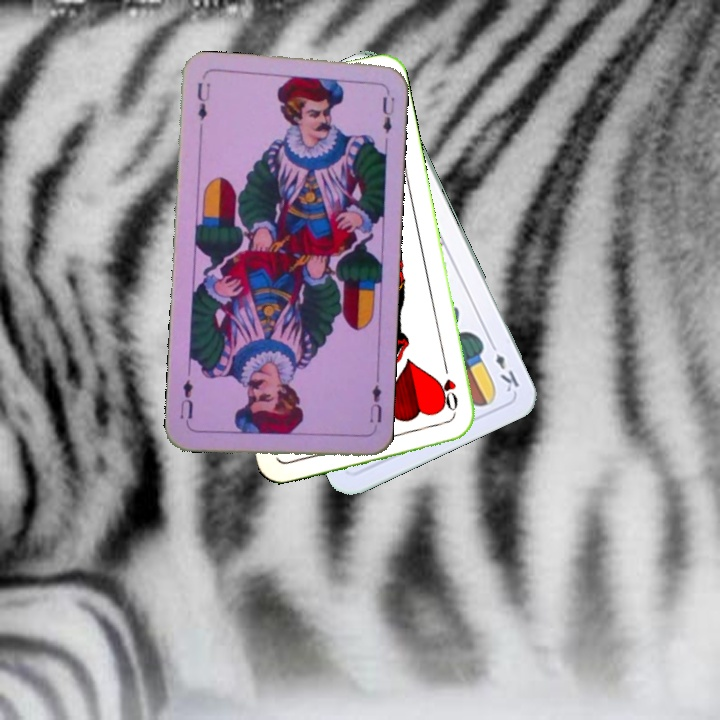EK: (485, 337, 522, 395)
EU: (365, 374, 385, 425), (193, 78, 213, 123)
HO: (433, 362, 461, 421)
